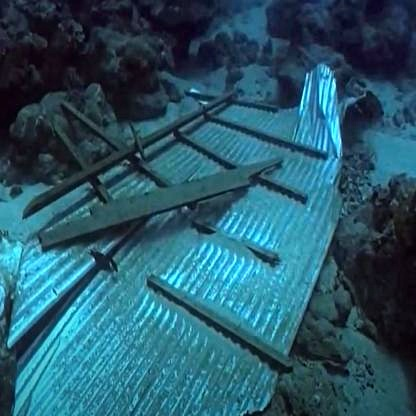metal: (25, 118, 313, 403)
